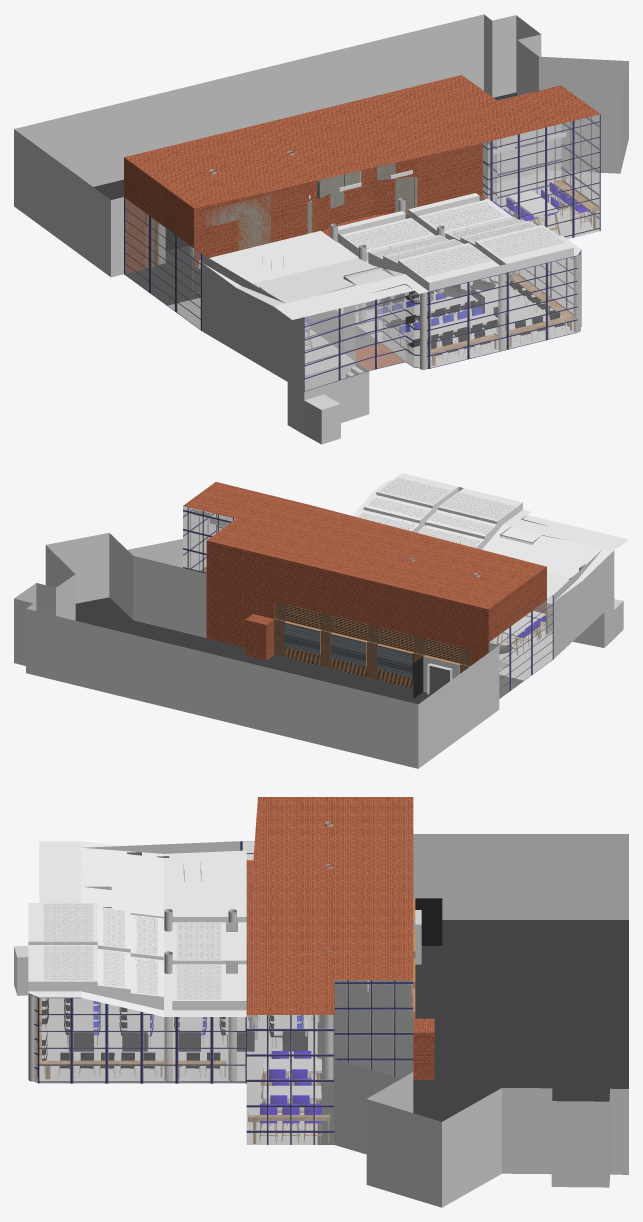
Rendered from mensa.glb.
The picture shows the model from 3 angles, top to bottom: view 1: azimuth 30°, elevation 25°; view 2: azimuth 150°, elevation 25°; view 3: azimuth 270°, elevation 25°; orthographic projection. The views are drawn at different scales.
Parts seen in each view (by area): view 1: Mensa, Cube.012, Tisch.002, Hochtisch.004, Tisch.004, Säule.011; view 2: Mensa; view 3: Mensa, Cube.007, Hochstuhl.005, Hochtisch.003, Stuhl.014, Säule.011, Hochtisch.004, Holztisch.006, Tisch.002, Holztisch.001.
Boxes of the visible parts, <box> form: Mensa: <box>14,14,628,444</box>; Cube.012: <box>238,195,270,249</box>; Tisch.002: <box>398,312,498,353</box>; Hochtisch.004: <box>508,190,560,234</box>; Tisch.004: <box>378,294,477,327</box>; Säule.011: <box>573,252,580,332</box>; Mensa: <box>14,473,628,768</box>; Mensa: <box>14,797,628,1207</box>; Cube.007: <box>68,1031,307,1051</box>; Hochstuhl.005: <box>259,1103,321,1143</box>; Hochtisch.003: <box>261,1058,321,1098</box>; Stuhl.014: <box>58,1052,156,1077</box>; Säule.011: <box>28,993,36,1081</box>; Hochtisch.004: <box>262,1085,321,1125</box>; Holztisch.006: <box>39,1059,163,1079</box>; Tisch.002: <box>73,998,93,1030</box>; Holztisch.001: <box>248,1113,330,1143</box>.
Size of the model in its own units: 32.13 by 9.36 by 29.02.
Materials: 75 (27 with a texture image).
